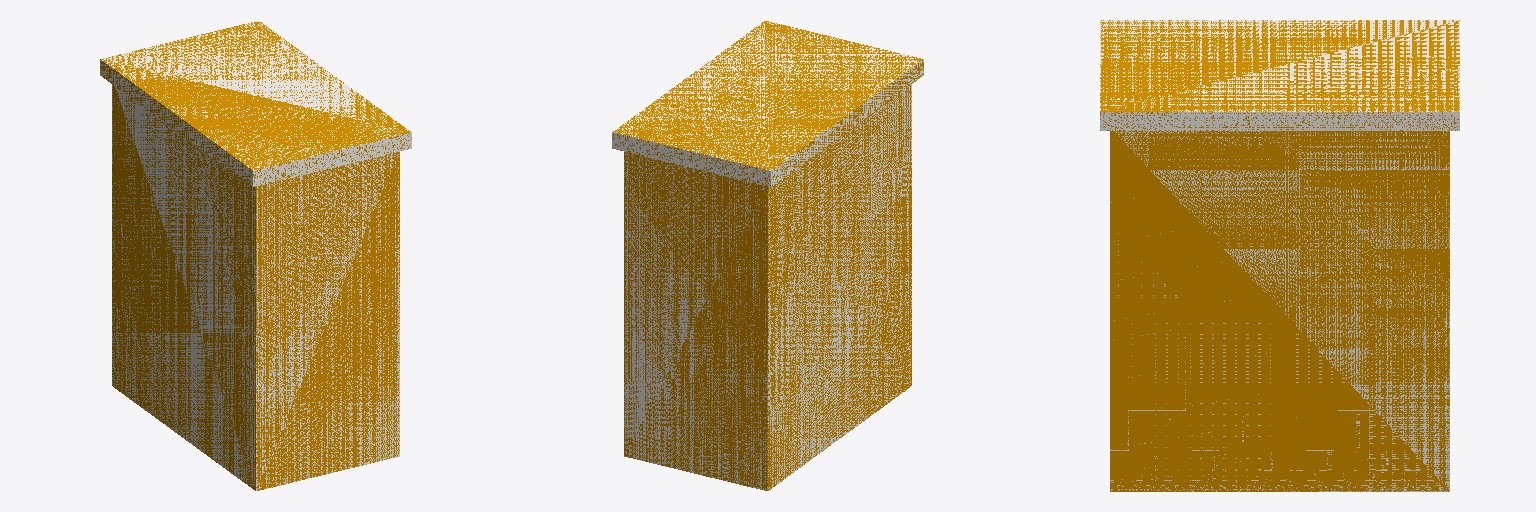
URDF robot description (my_object):
<?xml version="1.0" ?> 
<robot name="my_object" static="true">
  <link name="base_link">
  <inertial>
    <mass value="50.0" />
    <origin xyz="0 0 0.0" />
    <inertia ixx="1.0" ixy="0.0" ixz="0.0" iyy="1.0" iyz="0.0" izz="1.0"/>
  </inertial>
  <visual>
   <origin xyz="0 0 0.0" rpy="0 0 0" />
   <geometry>
     <mesh filename="package://cob_gazebo_objects/Media/models/counter.dae"/>
   </geometry>
  </visual>
  <collision>
   <origin xyz="0 0 0.435" rpy="0 0 0" />
   <geometry>
     <box size="0.443 0.74 0.87" />
   </geometry>
  </collision>     
  </link>

<gazebo>
	<static>true</static>
</gazebo>
</robot>

--- What the picture shows (computed from the rendered views, not written in the file) ---
3 views of the same robot in one strip: view 1: azimuth 30°, elevation 25°; view 2: azimuth 150°, elevation 25°; view 3: azimuth 270°, elevation 25° (orthographic).
Robot: my_object — 1 links, 0 joints (none); root link base_link; default pose: every joint at zero.
Visible links, largest first — view 1: base_link; view 2: base_link; view 3: base_link.
Link boxes in pixels (<box>): base_link: <box>100,21,411,490</box>; base_link: <box>612,21,923,490</box>; base_link: <box>1100,20,1459,491</box>.
Bounding box of the posed robot: 0.0113 × 0.0188 × 0.0221 m (x, y, z).
Meshes: 1 distinct files referenced, 1 mesh visuals loaded (1 Collada DAE).